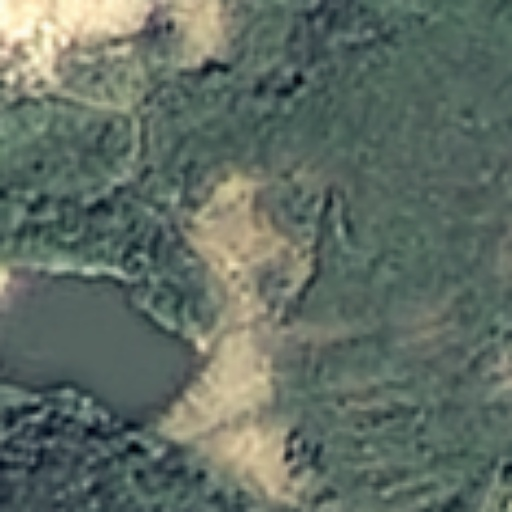landslide: (156, 164, 322, 488)
